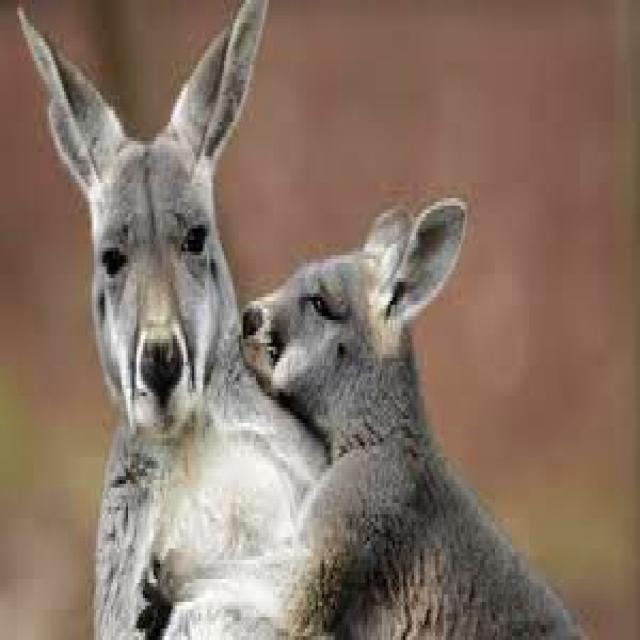kangaroo: (137, 198, 582, 636), (19, 0, 324, 636)
